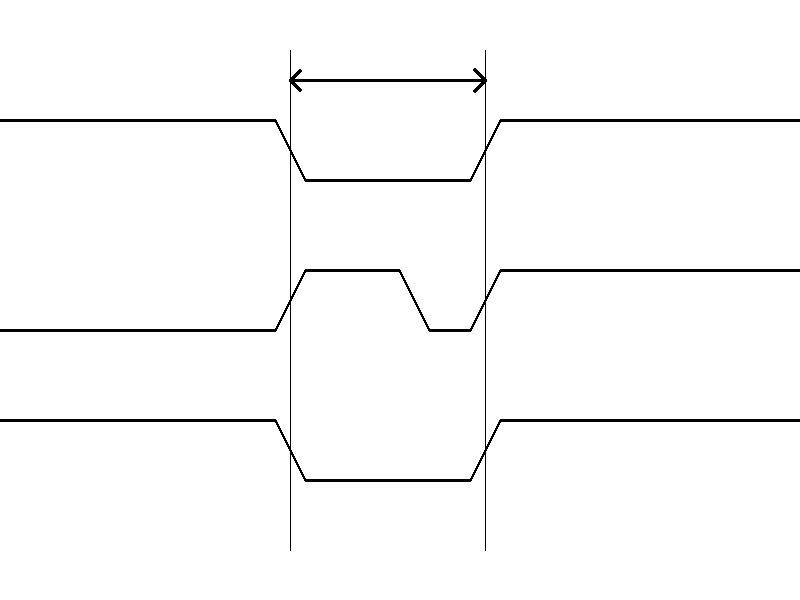double_arrow: (290, 65, 485, 95)
